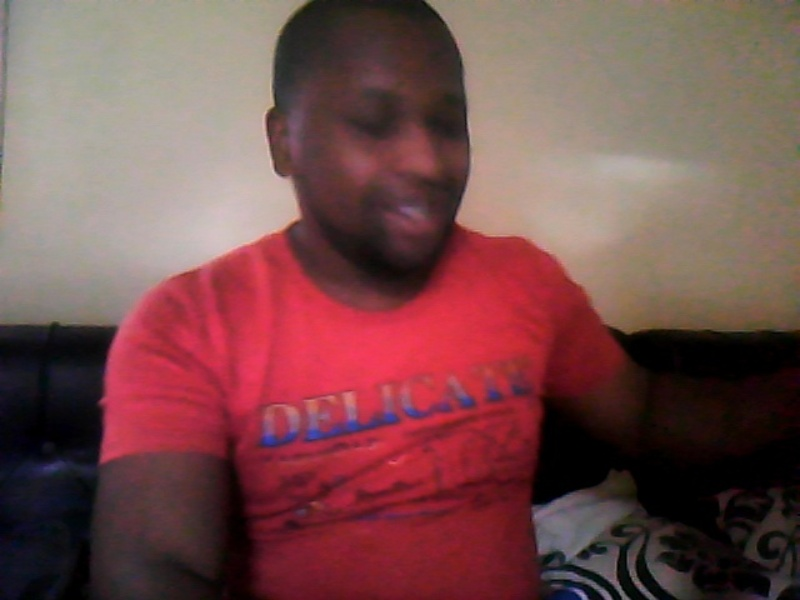TsisyArotava: (262, 8, 497, 275)
